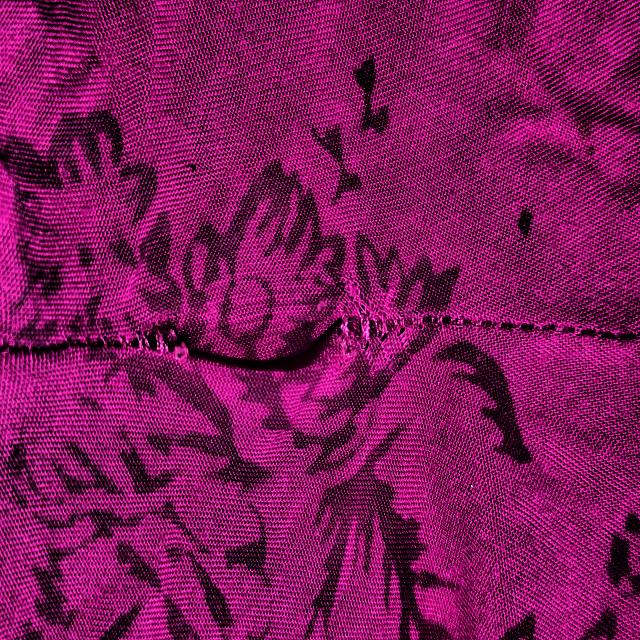seam: (77, 288, 563, 432)
